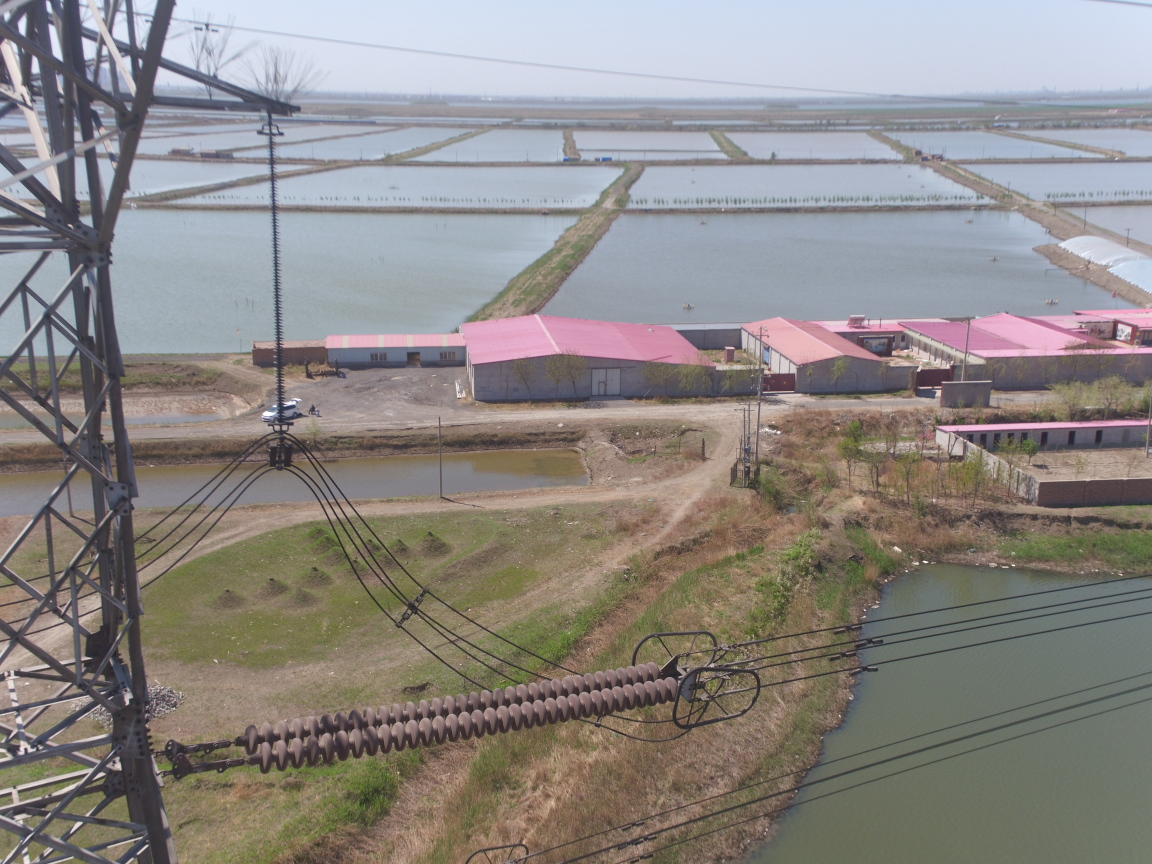insulator: (224, 660, 684, 774)
